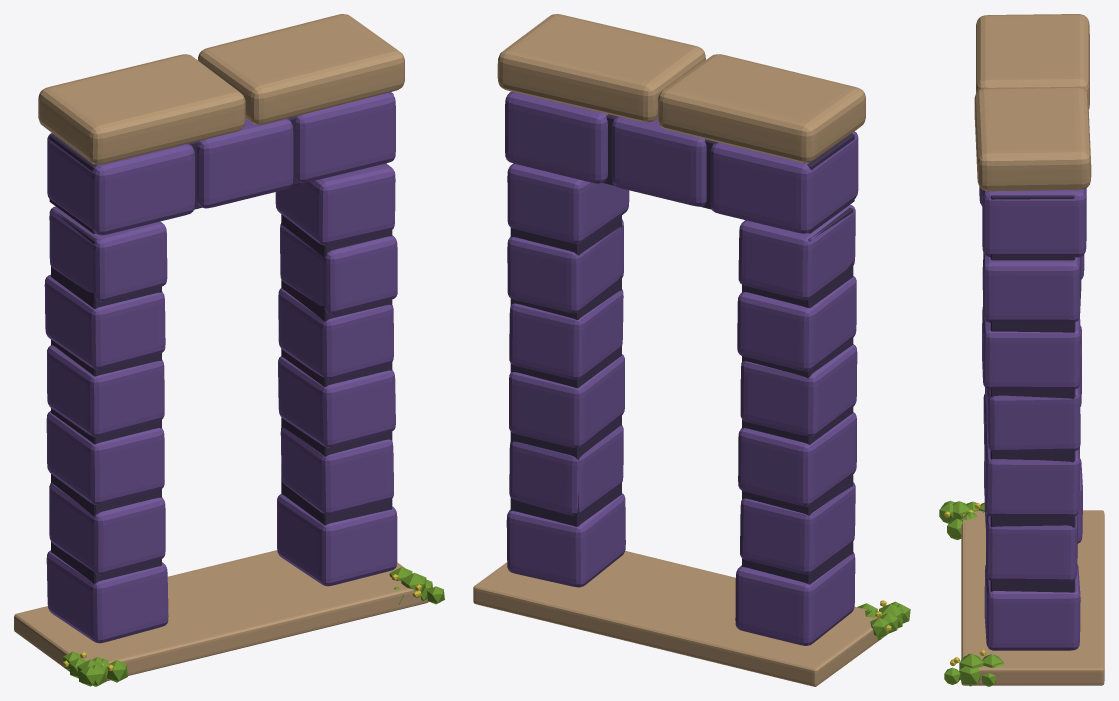
Rendered from DiamondDoor_frame.glb.
The picture shows the model from 3 angles, left to right: view 1: azimuth 30°, elevation 25°; view 2: azimuth 150°, elevation 25°; view 3: azimuth 270°, elevation 25°; orthographic projection. The views are drawn at different scales.
Parts seen in each view (by area): view 1: DiamondDoor_frame; view 2: DiamondDoor_frame; view 3: DiamondDoor_frame.
Boxes of the visible parts, bbox=[...] form: DiamondDoor_frame: bbox=[14, 14, 444, 686]; DiamondDoor_frame: bbox=[473, 14, 910, 686]; DiamondDoor_frame: bbox=[939, 14, 1104, 686].
Size of the model in its own units: 1.23 by 1.78 by 0.5069.
